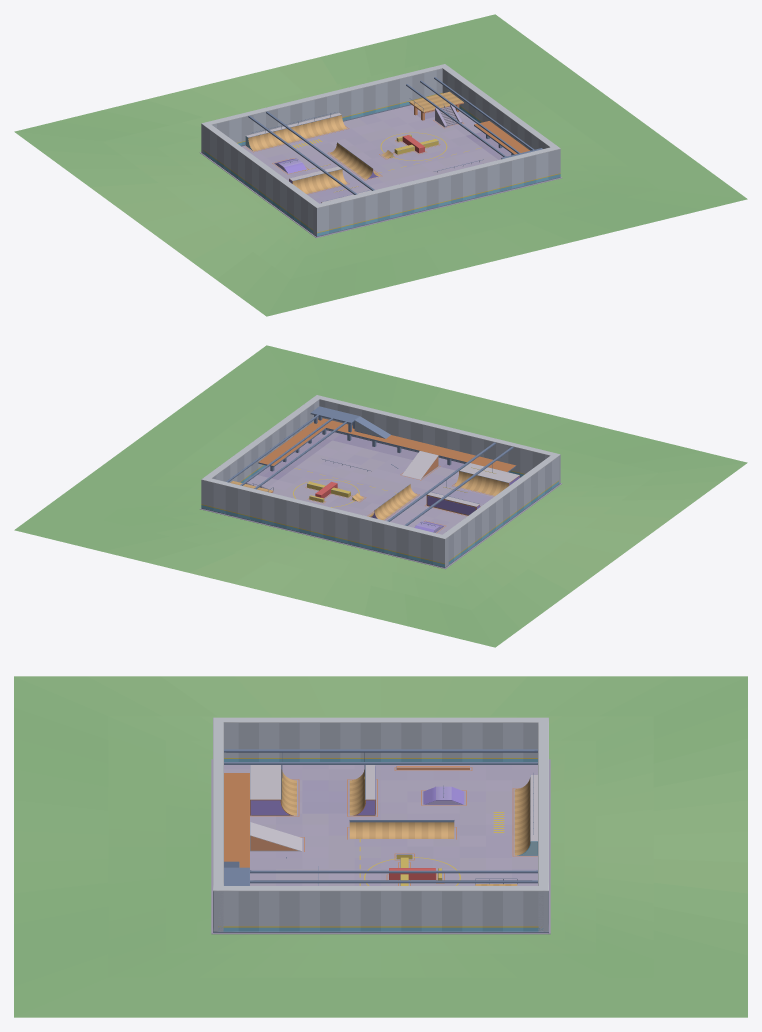
The model's file is hangar.glb.
3 renders of one model, top to bottom at view 1: azimuth 30°, elevation 25°; view 2: azimuth 150°, elevation 25°; view 3: azimuth 270°, elevation 25°, orthographic. The views are drawn at different scales.
Parts seen in each view (by area): view 1: park; view 2: park; view 3: park.
Boxes of the visible parts, x1,y1,x2,y2 form: park: [14, 14, 747, 316]; park: [14, 345, 747, 647]; park: [14, 676, 747, 1017].
Bounding box in the file's own units: 154 × 9.08 × 140.
